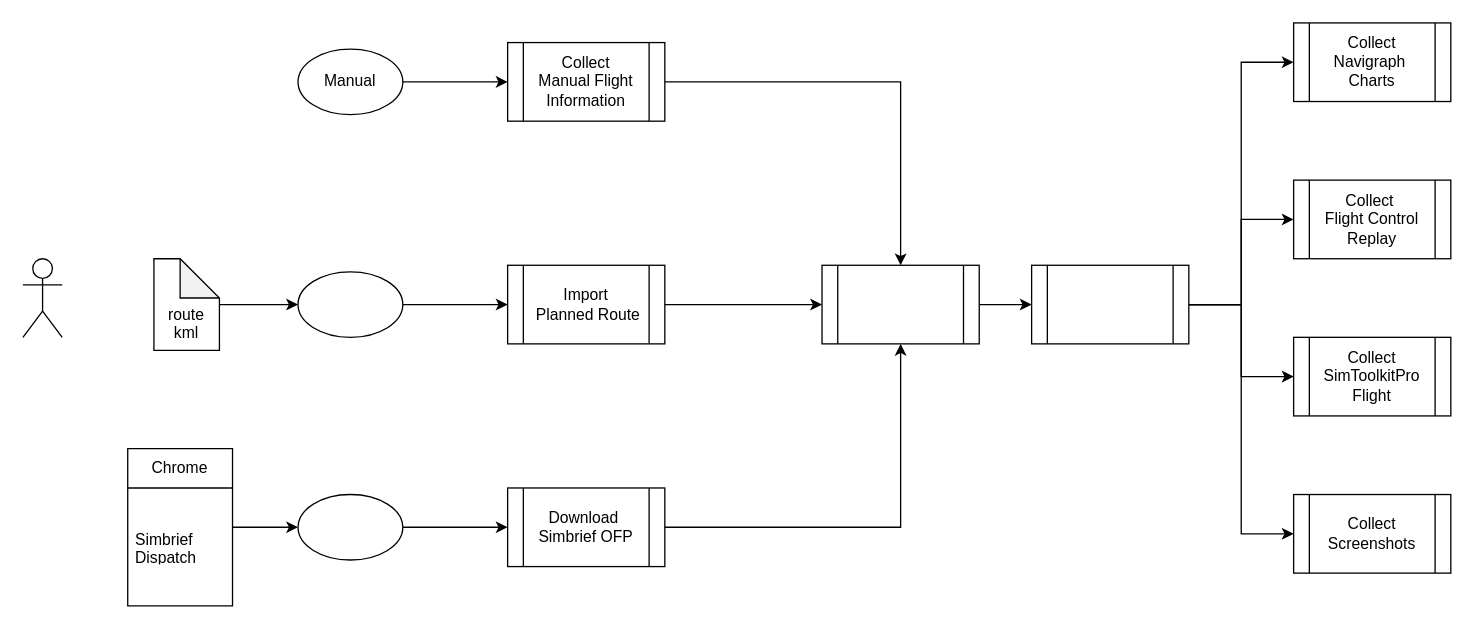
The diagram is 1474 pixels wide and 629 high, and some of its shapes have lost their labels. Here are the shapes that lost their labels. From the top down, the centre of each, then its label:
At point 42,297: "Pilot".
At point 350,304: "Route".
At point 900,304: "Create Flight Folder".
At point 1109,304: "Record MSFS Flight".
At point 350,526: "Simbrief".
